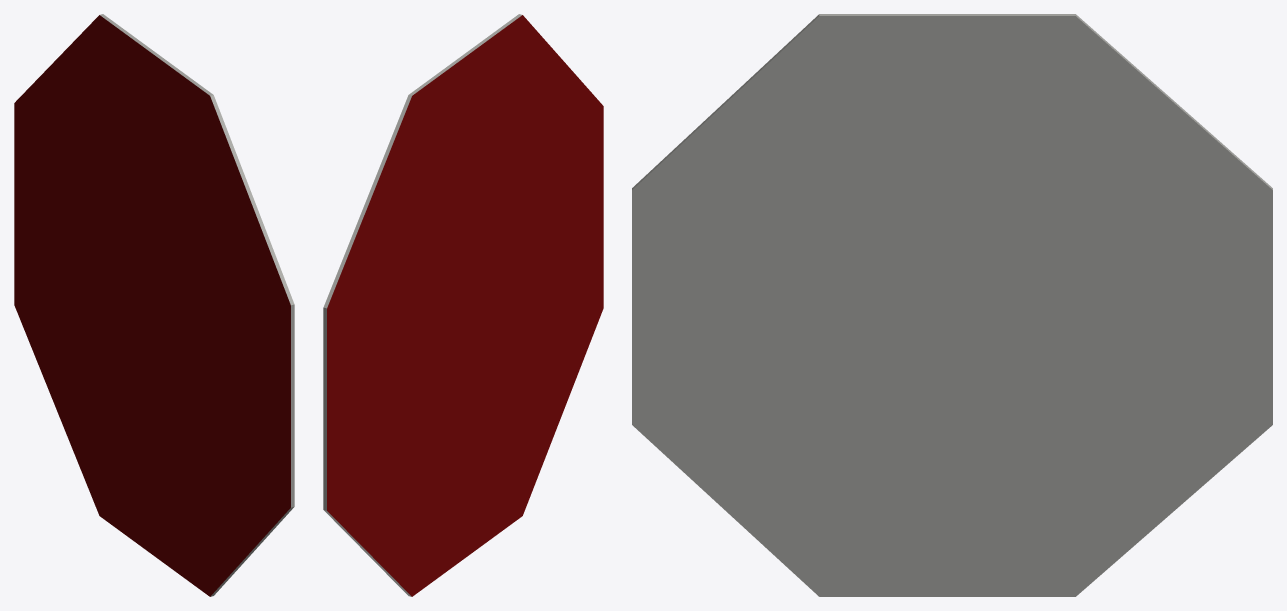
The model's file is RoadtSign_4type_A.FBX.
3 renders of one model, left to right at view 1: azimuth 30°, elevation 25°; view 2: azimuth 150°, elevation 25°; view 3: azimuth 270°, elevation 25°, orthographic. The views are drawn at different scales.
Visible parts, largest first — view 1: Roadtsign_4type_B; view 2: Roadtsign_4type_B; view 3: Roadtsign_4type_B.
Part boxes in pixels (x1,y1,x2,y2): Roadtsign_4type_B: [14, 14, 294, 596]; Roadtsign_4type_B: [323, 14, 603, 596]; Roadtsign_4type_B: [632, 14, 1272, 596].
Bounding box in the file's own units: 0.5 × 65 × 65.
